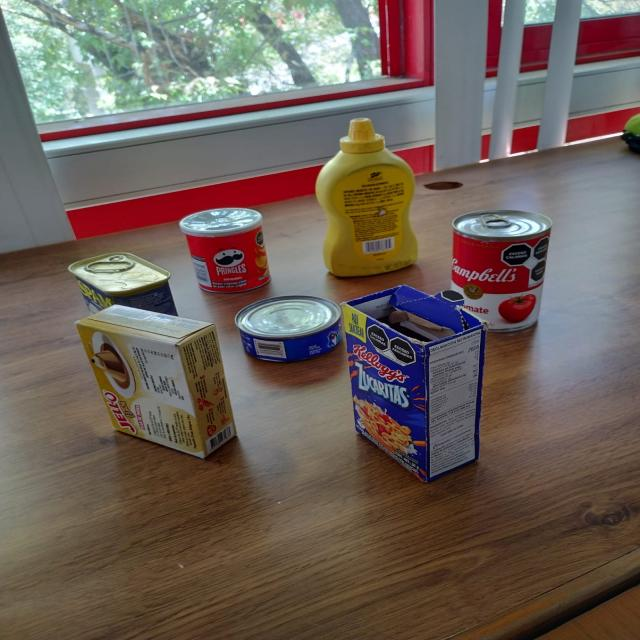can of cream: (449, 211, 550, 328)
can of tuna: (234, 294, 342, 360)
cereal: (340, 284, 486, 479)
chips: (178, 208, 270, 292)
jelly: (74, 305, 240, 459)
mustard: (316, 119, 420, 276)
spam: (68, 252, 175, 316)
